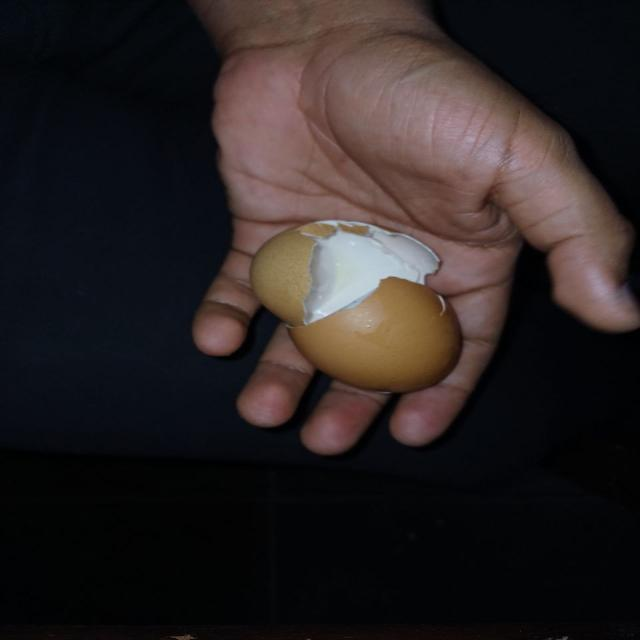organic: (249, 219, 463, 396)
